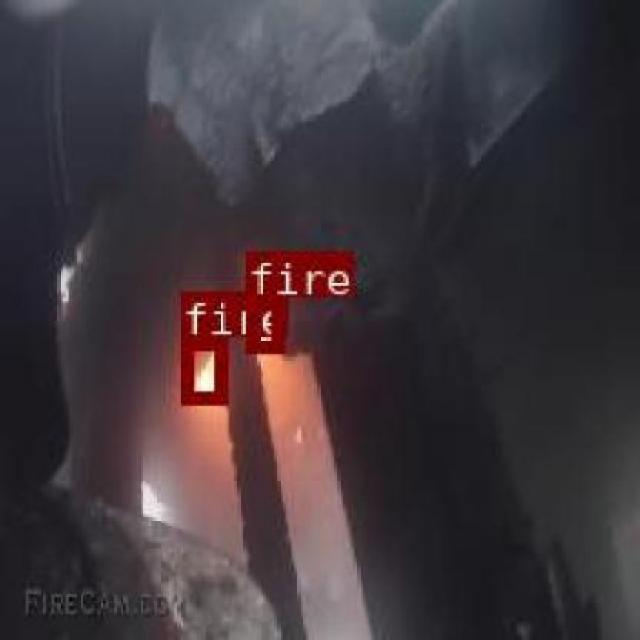Fire: (180, 334, 226, 402), (244, 294, 281, 352)
